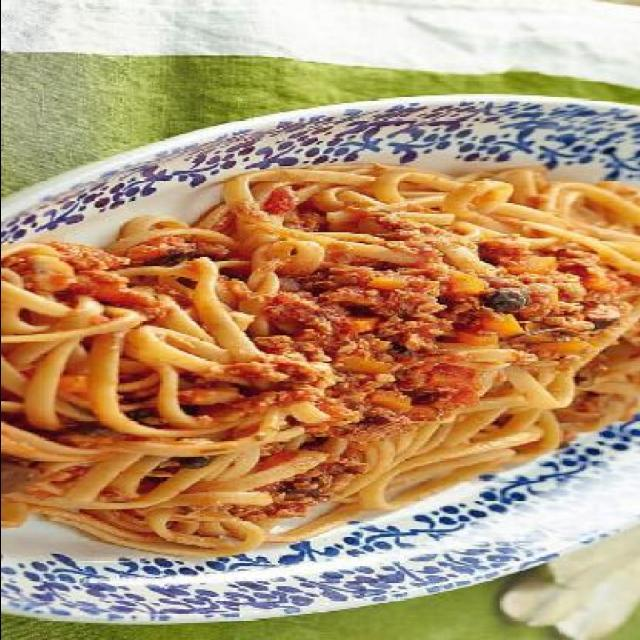Pasta al ragu: (45, 142, 632, 584)
